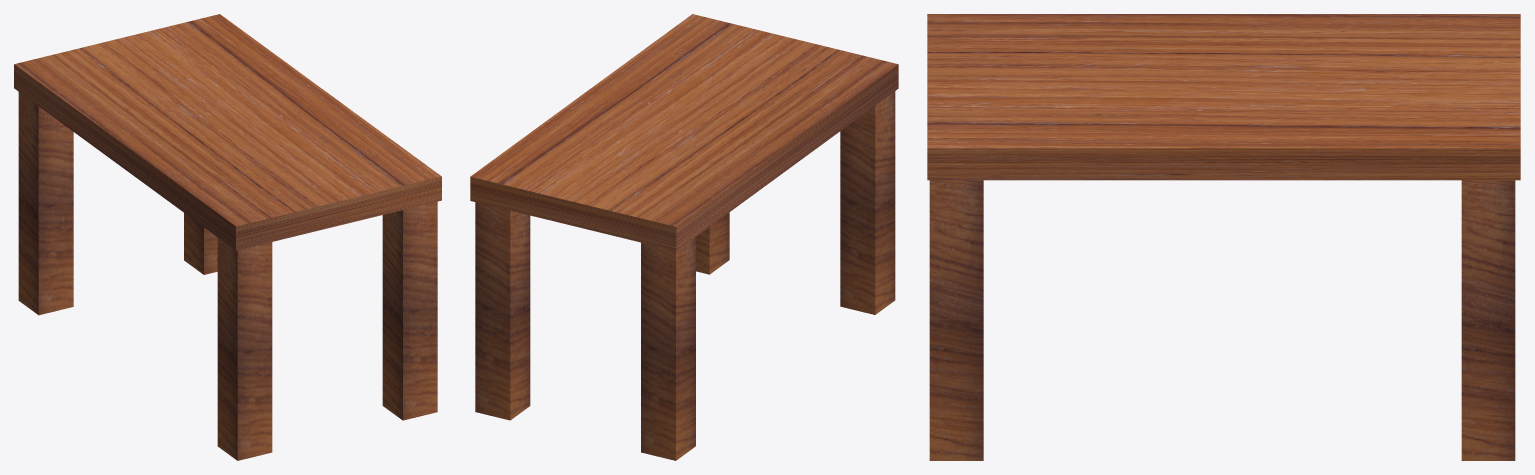
Rendered from Table.fbx.
3 renders of one model, left to right at view 1: azimuth 30°, elevation 25°; view 2: azimuth 150°, elevation 25°; view 3: azimuth 270°, elevation 25°, orthographic. The views are drawn at different scales.
Parts seen in each view (by area): view 1: Table; view 2: Table; view 3: Table.
Part boxes in pixels (x1=…): Table: x1=14, y1=14, x2=441, y2=460; Table: x1=470, y1=14, x2=898, y2=460; Table: x1=927, y1=14, x2=1520, y2=460.
Size of the model in its own units: 343 by 375 by 641.
Materials: 2 (2 with a texture image).
